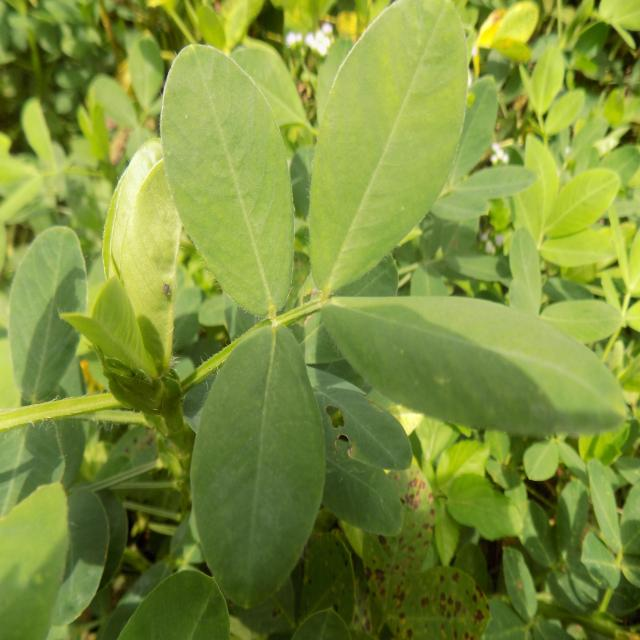Ground nut_healthy: (309, 0, 471, 301), (322, 287, 634, 431), (195, 325, 328, 604), (163, 39, 295, 314)
